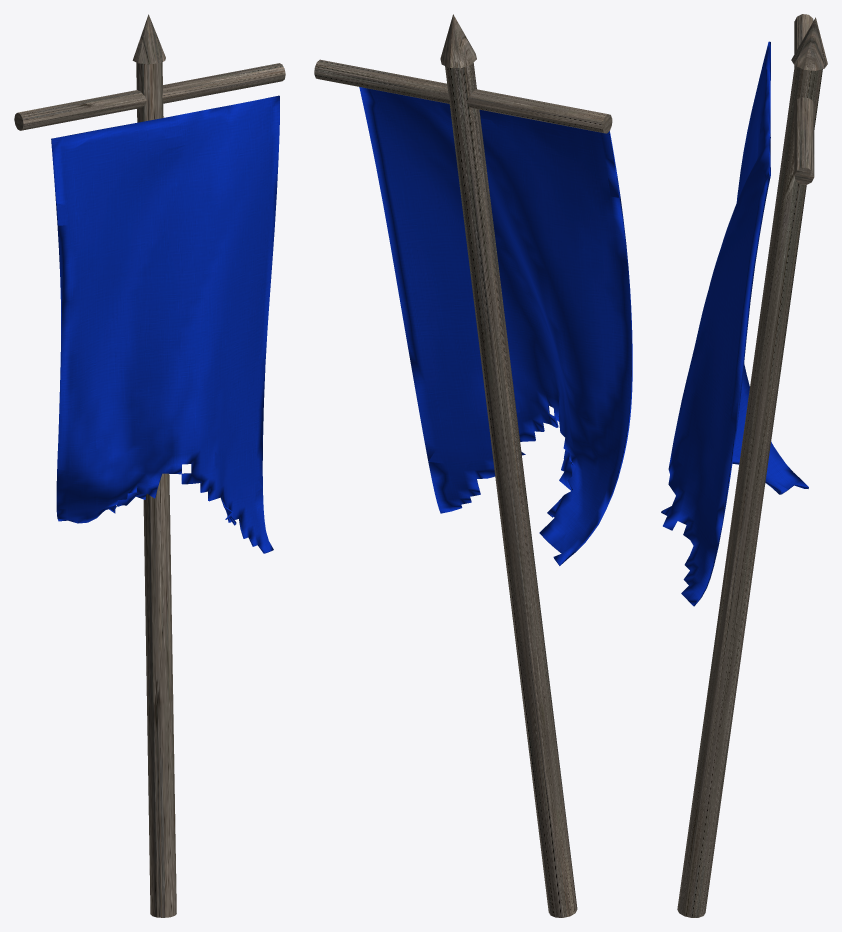
File: standard.glb
3 views of the same model, side by side, from view 1: azimuth 30°, elevation 25°; view 2: azimuth 150°, elevation 25°; view 3: azimuth 270°, elevation 25° (orthographic). The views are drawn at different scales.
Visible parts, largest first — view 1: banner, Cylinder, Cylinder.001, Cone; view 2: banner, Cylinder, Cylinder.001, Cone; view 3: banner, Cylinder, Cylinder.001, Cone.
Part boxes in pixels (x1,y1,x2,y2): banner: (51,95,279,553); Cylinder: (136,62,176,917); Cylinder.001: (14,63,285,130); Cone: (132,14,165,64); banner: (359,87,632,565); Cylinder: (445,63,577,917); Cylinder.001: (314,59,612,133); Cone: (440,14,476,67); banner: (661,41,808,606); Cylinder: (677,66,822,917); Cylinder.001: (794,14,814,184); Cone: (791,17,827,70).
Size of the model in its own units: 1.15 by 3.56 by 0.5856.
2 materials, 2 textured.
